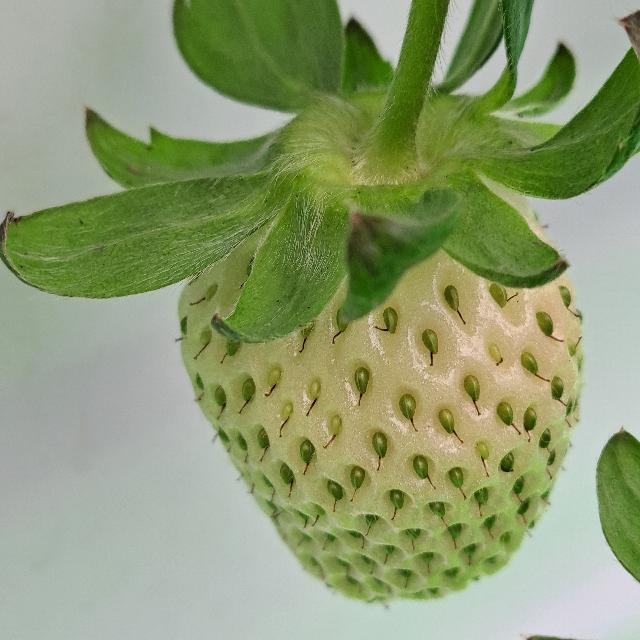Health_25: (178, 200, 584, 604)
